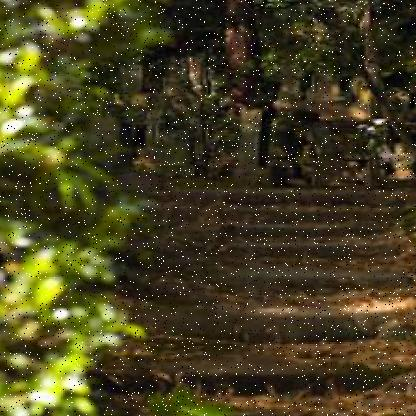stair_up: (117, 170, 380, 380)
